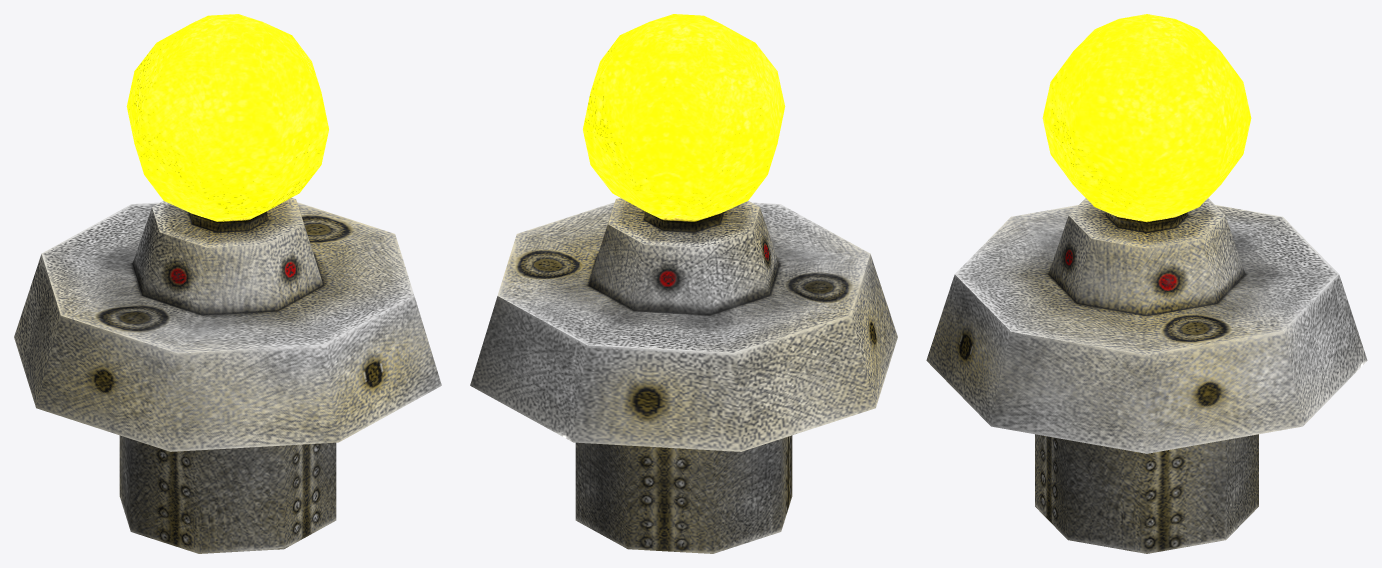
Rendered from HEAD_BULB.fbx.
3 renders of one model, left to right at view 1: azimuth 30°, elevation 25°; view 2: azimuth 150°, elevation 25°; view 3: azimuth 270°, elevation 25°, orthographic.
Visible parts, largest first — view 1: HEAD_BULB; view 2: HEAD_BULB; view 3: HEAD_BULB.
Part boxes in pixels (left/top/right/bottom): HEAD_BULB: left=14, top=14, right=441, bottom=553; HEAD_BULB: left=470, top=14, right=897, bottom=553; HEAD_BULB: left=926, top=14, right=1367, bottom=553.
Size of the model in its own units: 0.0098 by 0.0118 by 0.0098.
